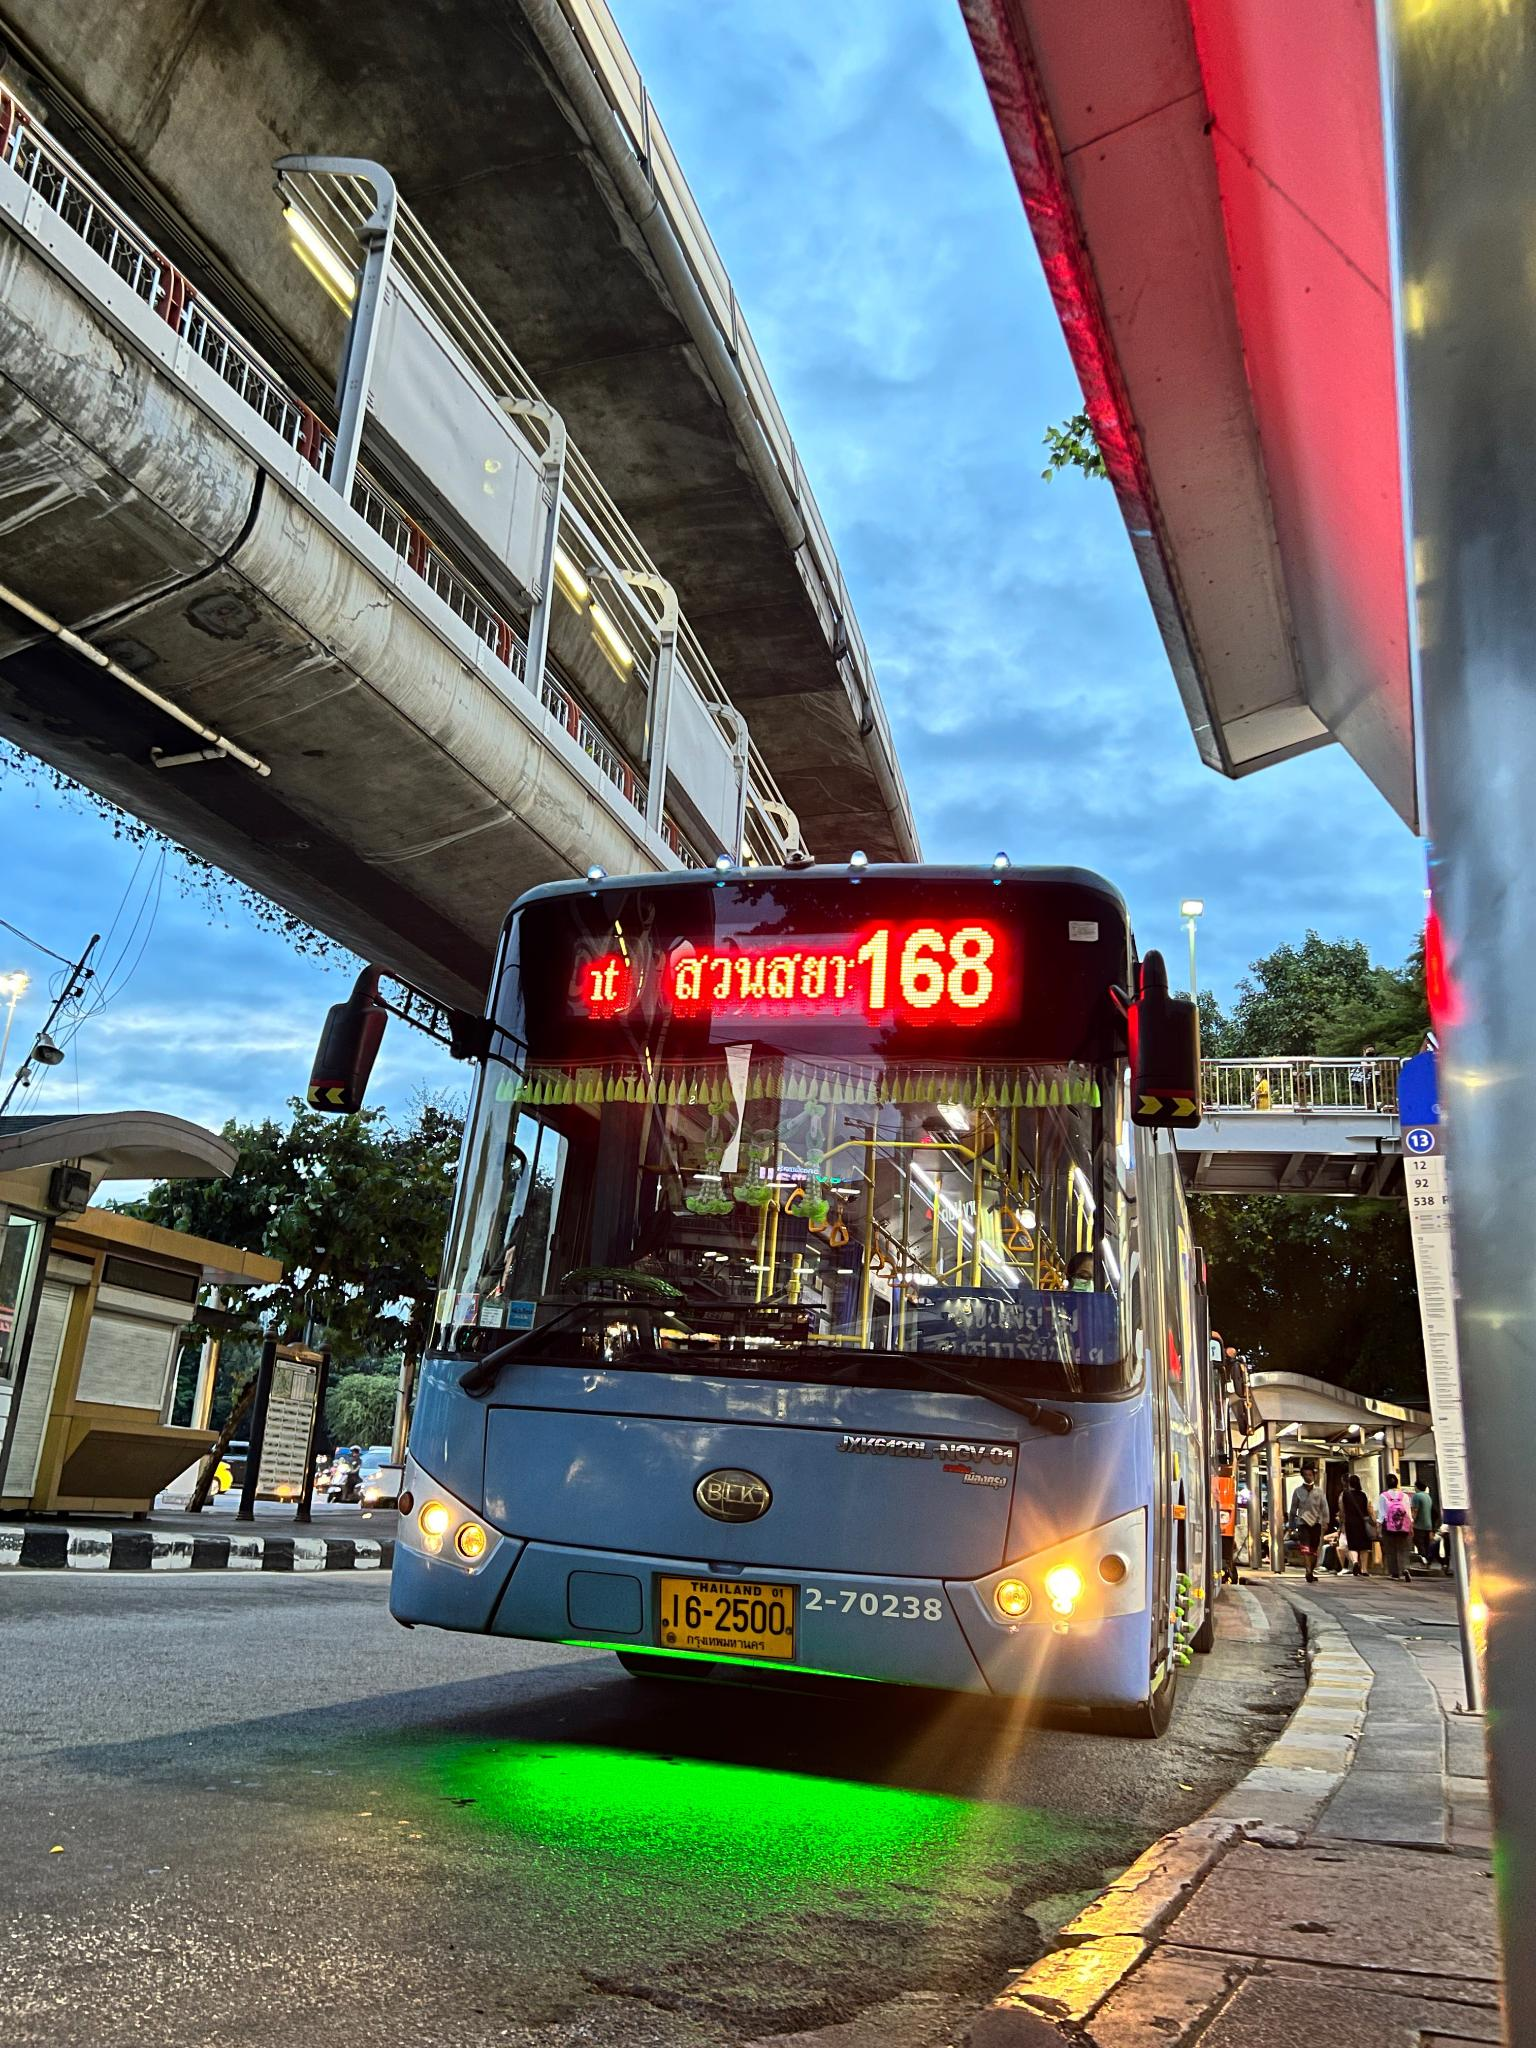BMTA-bus: (382, 863, 1213, 1800)
Bus Line Number: (845, 906, 1000, 1026)
Bus Side Number: (794, 1572, 952, 1630)
Destination Sign: (920, 1280, 1113, 1367)
